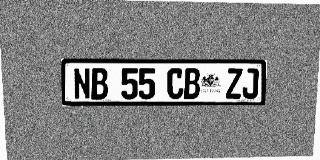5: (121, 68, 138, 99), (139, 68, 155, 99)
B: (91, 68, 108, 99), (184, 68, 200, 99)
C: (167, 68, 183, 99)
J: (242, 68, 259, 99)
N: (73, 68, 91, 100)
Z: (226, 68, 242, 99)
